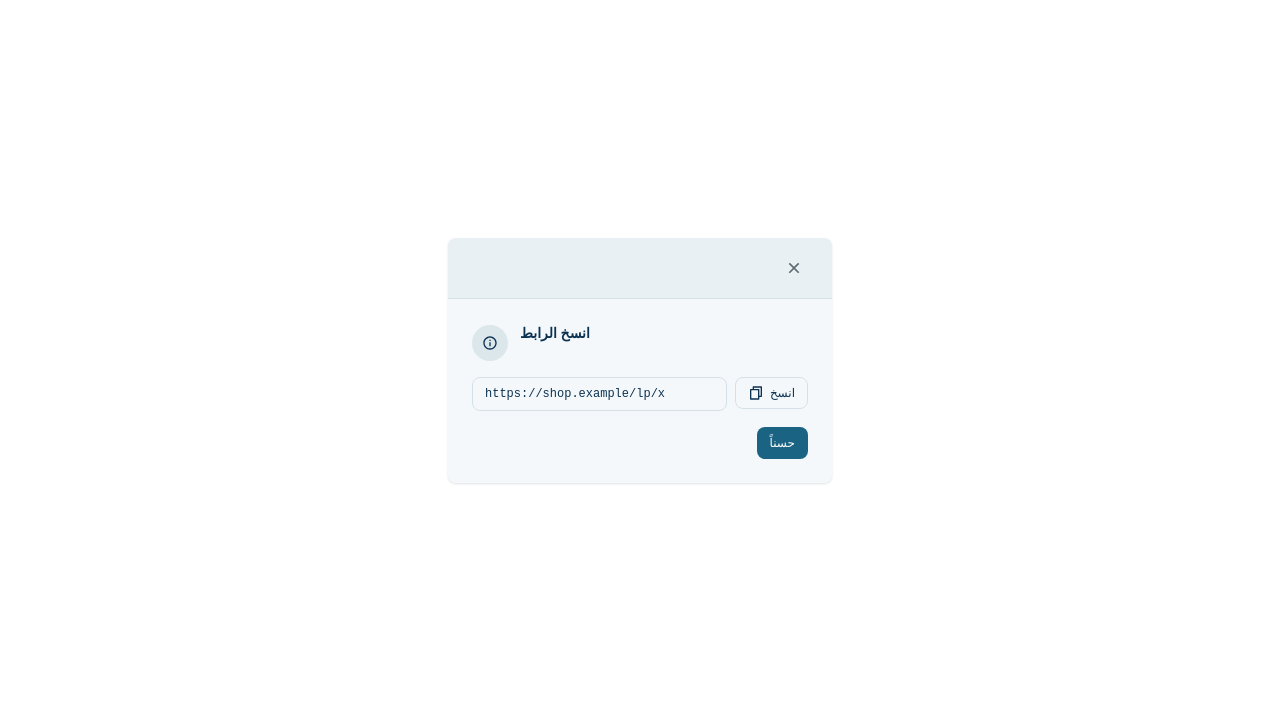
tell › hands over a value to copy in a read-only field, with its own copy button
This screenshot has width=1280, height=720.
Step 1. Click the button "انسخ" → (771, 392), box [735,376,808,408]
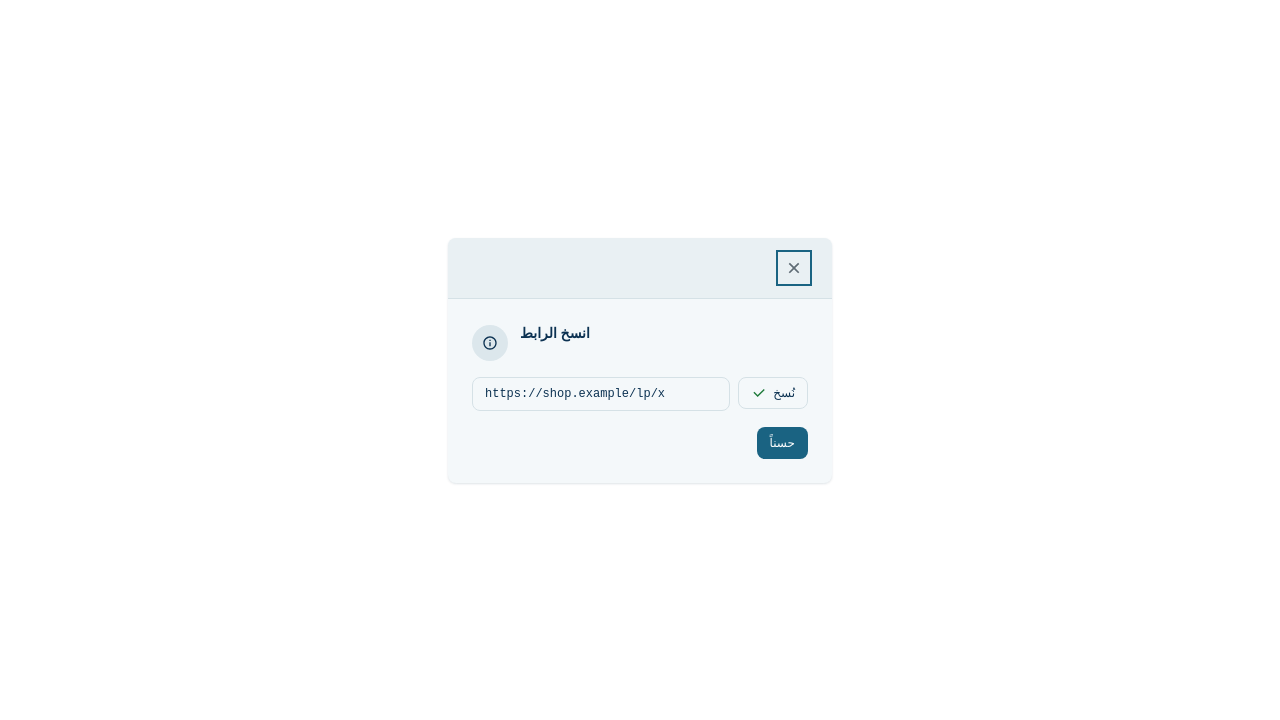
Expected: the button "نُسخ" is shown, [738,376,808,408]
